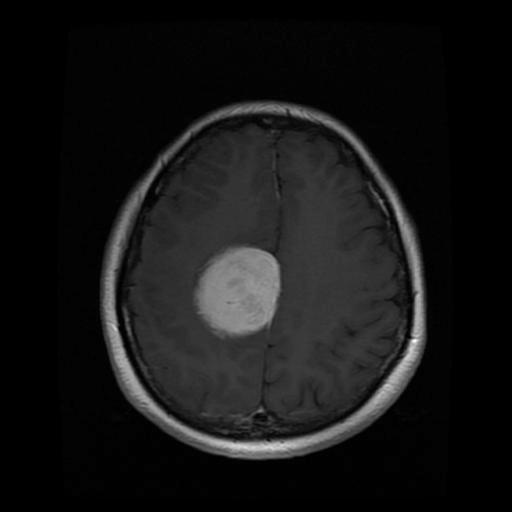Tumour-Meningioma: (179, 226, 303, 377)
